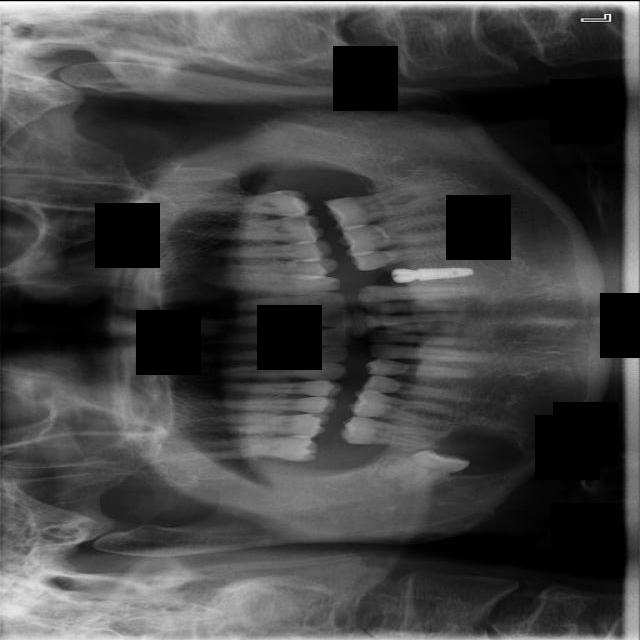52: (290, 213, 319, 225), (280, 187, 305, 198), (309, 411, 329, 419)
BioHorizons Implant: (172, 180, 315, 219)
Blue Sky Bio Implant: (322, 178, 439, 235)
Caries: (179, 432, 318, 460)
Keystone Dental Implant: (366, 433, 472, 510)
